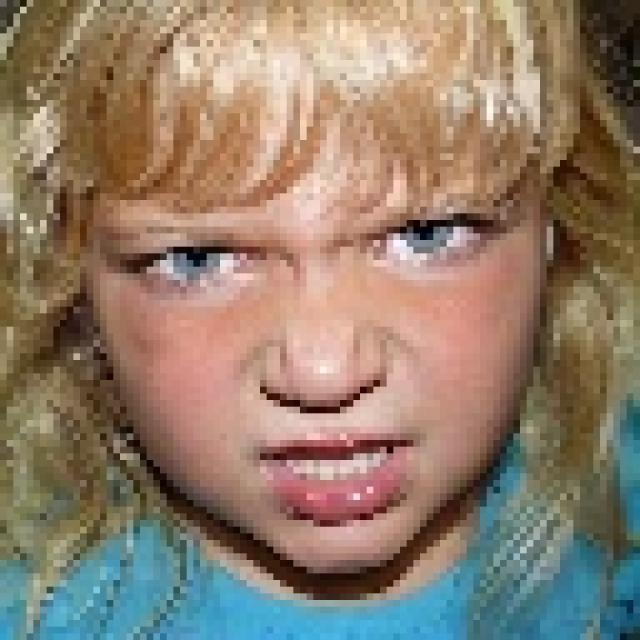angry: (90, 0, 581, 587)
